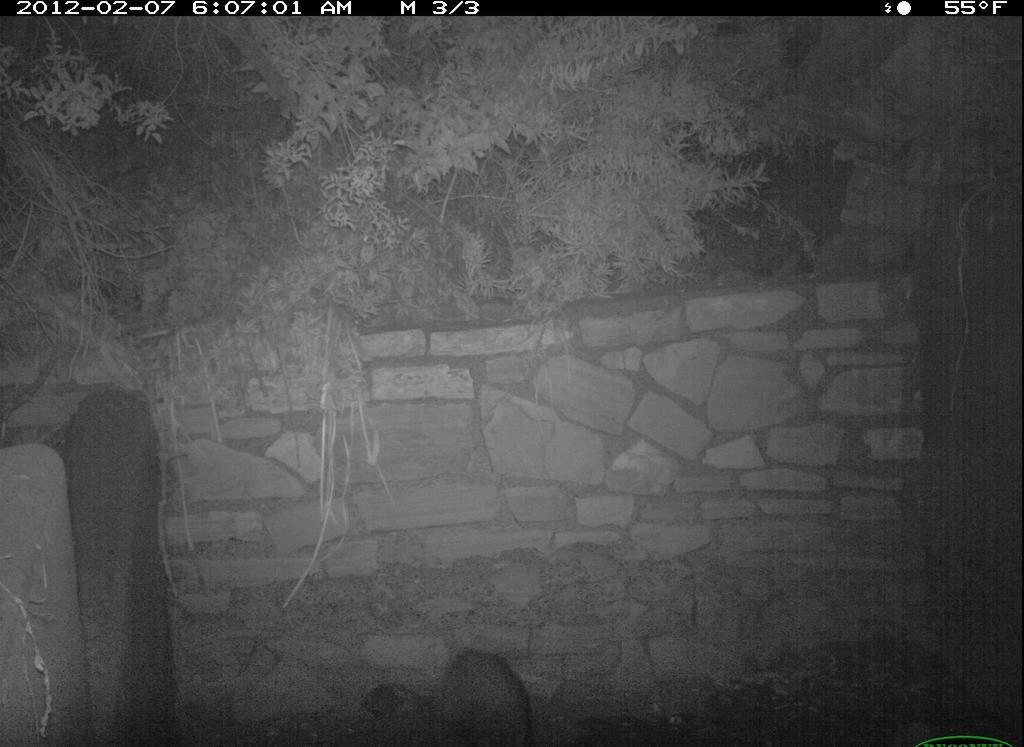raccoon: (423, 637, 580, 747)
